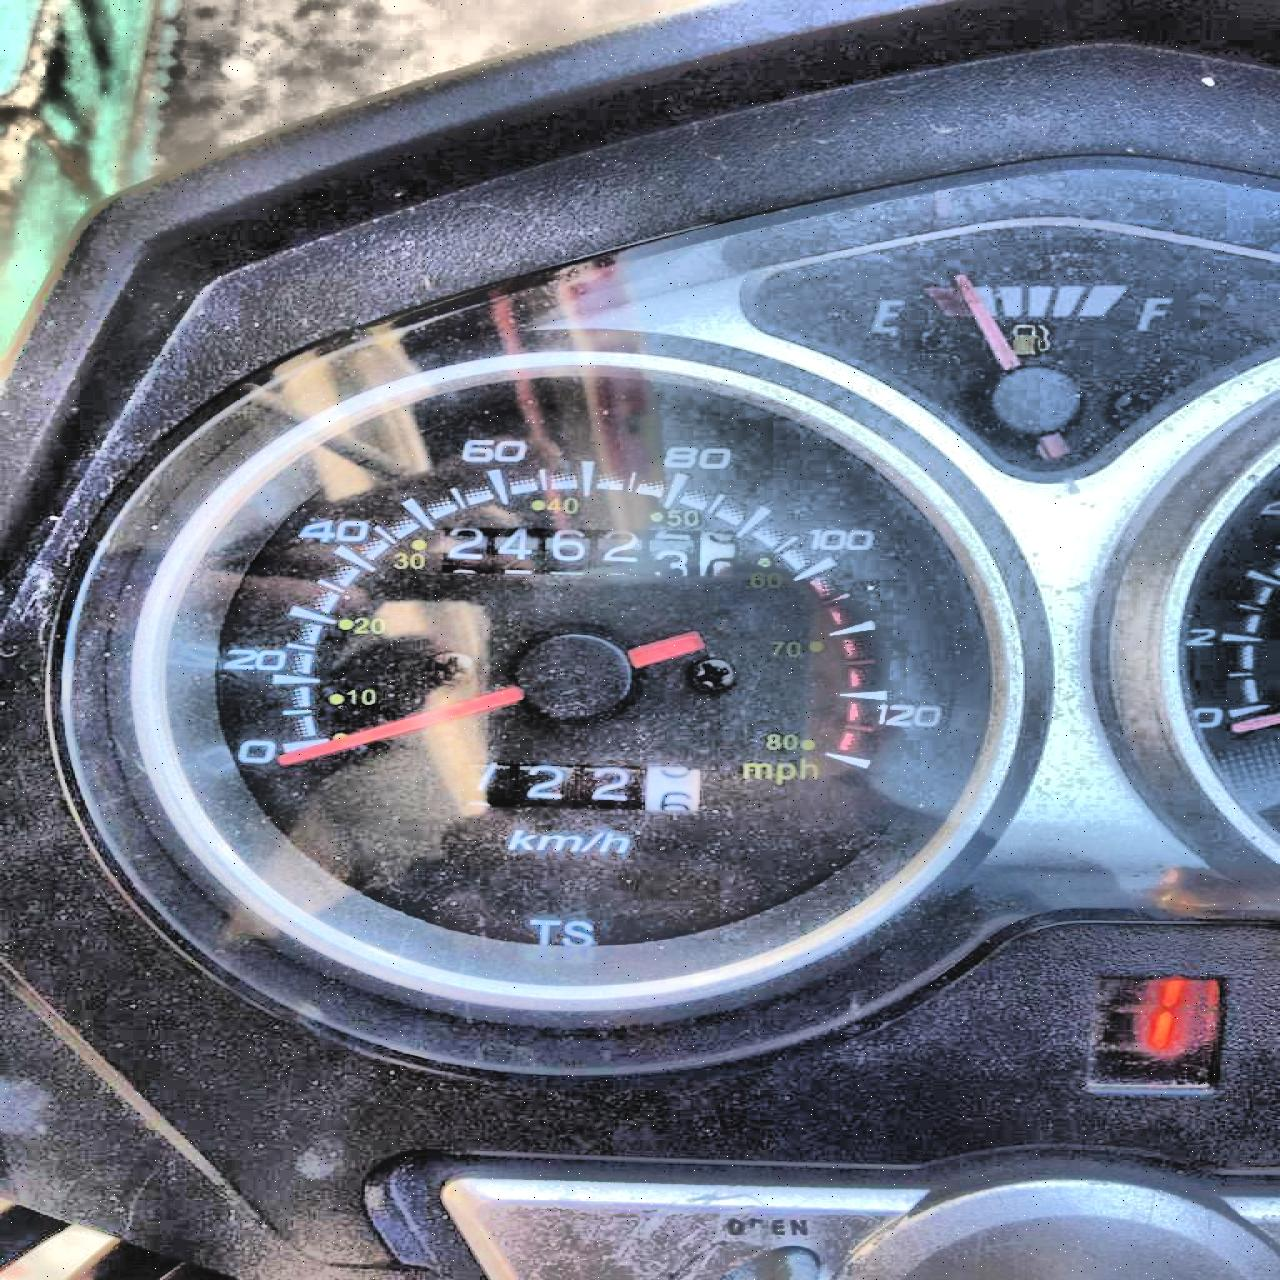0: (703, 554, 737, 584)
2: (444, 525, 483, 559), (600, 529, 639, 561)
3: (649, 549, 688, 579)
4: (495, 526, 530, 559)
6: (550, 527, 585, 560)
odometer: (437, 523, 738, 580)
